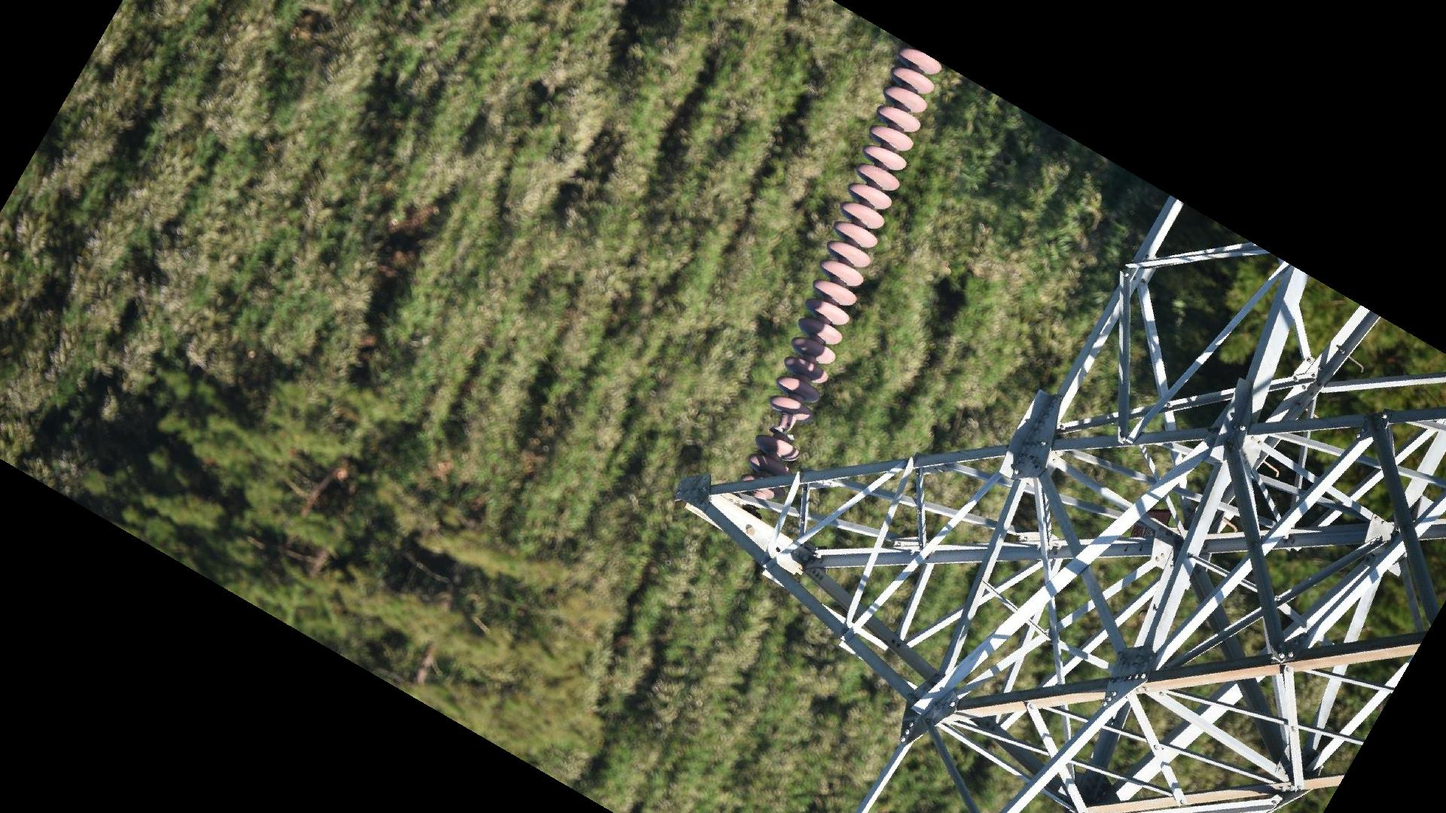insulator: (753, 41, 944, 462)
insulator_stringdrop: (752, 391, 819, 461)
